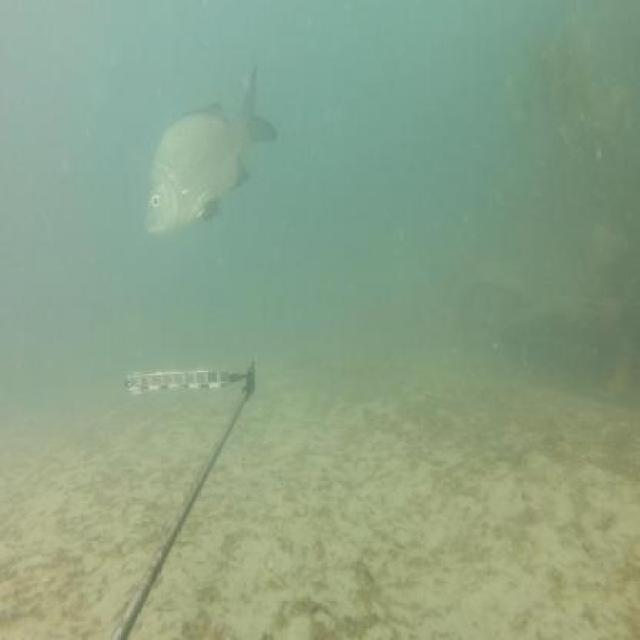acanthopagrus_palmaris: (140, 58, 280, 244)
